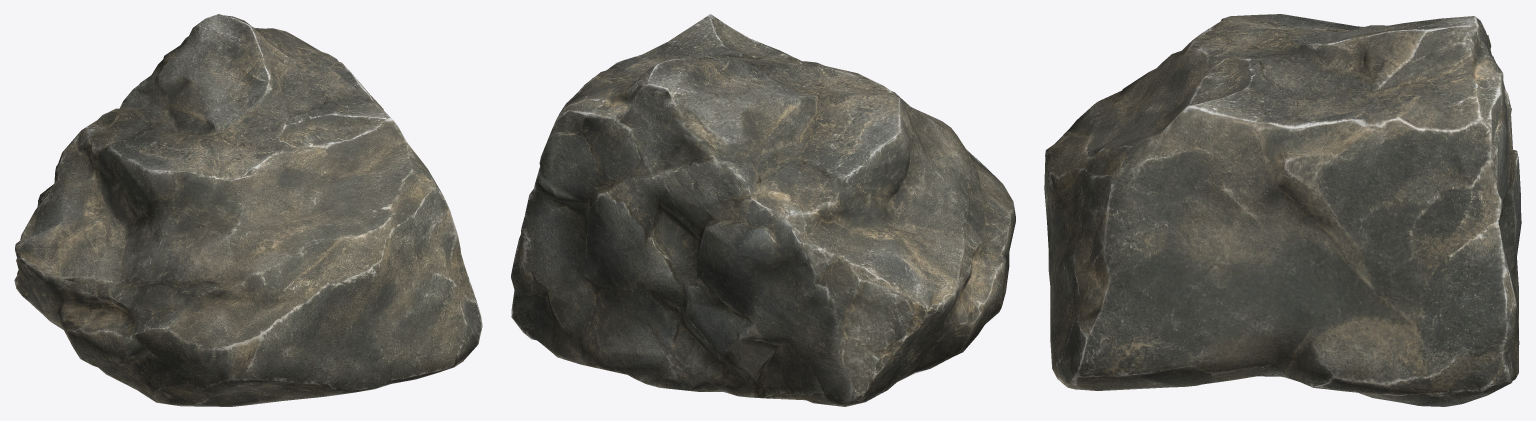
File: rock_2.glb
3 views of the same model, side by side, from view 1: azimuth 30°, elevation 25°; view 2: azimuth 150°, elevation 25°; view 3: azimuth 270°, elevation 25° (orthographic). The views are drawn at different scales.
Bounding box in the file's own units: 1.91 × 1.33 × 1.74.
Materials: 1 (1 with a texture image).
